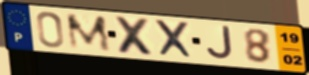0: (34, 10, 66, 49)
8: (242, 28, 273, 65)
J: (205, 25, 236, 62)
M: (64, 13, 114, 53)
X: (152, 18, 198, 61), (112, 15, 158, 58)
